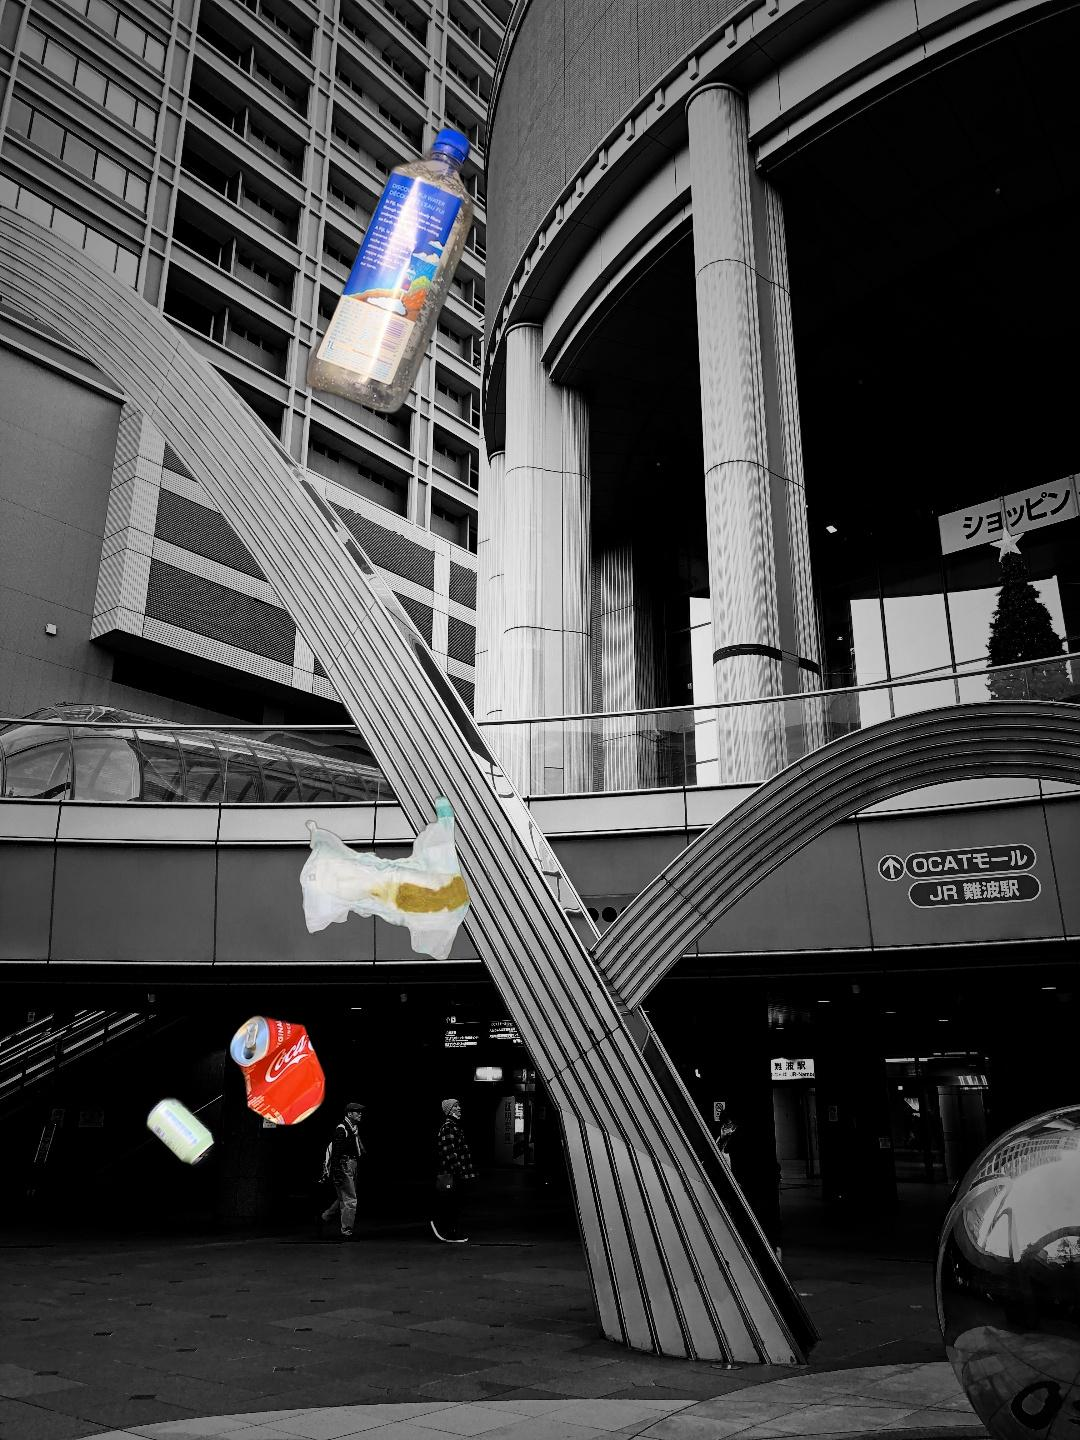metal-cans: (120, 1092, 294, 1440), (225, 1009, 331, 1132)
plastic-bottles: (301, 121, 478, 420)
trash: (296, 793, 473, 963)
